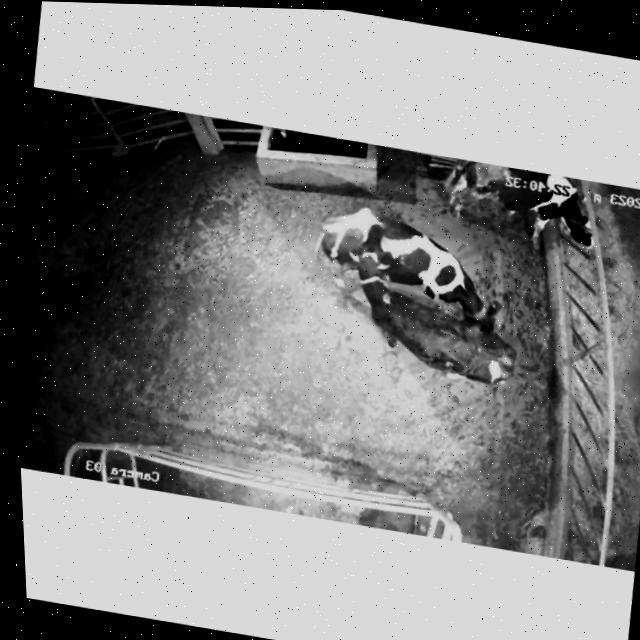propping: (330, 210, 412, 311)
